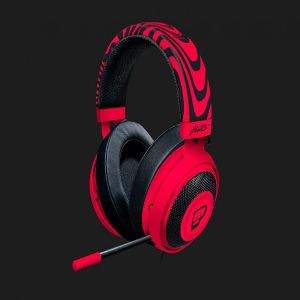headset: (64, 18, 221, 277)
